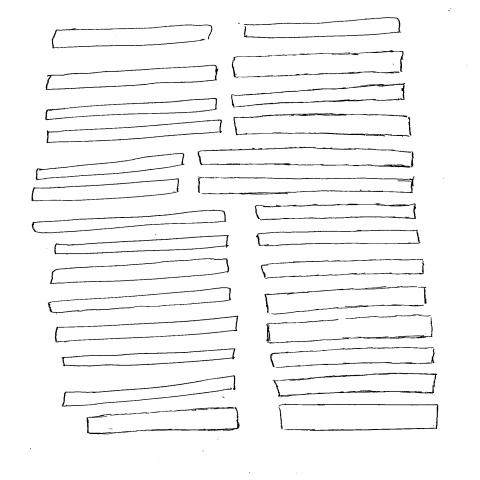Textbox: (61, 376, 237, 408), (55, 316, 239, 343), (266, 316, 435, 345), (48, 288, 232, 314), (265, 287, 428, 316), (32, 210, 227, 234), (50, 259, 230, 285), (233, 52, 405, 79), (231, 83, 407, 109), (198, 148, 415, 169), (46, 65, 219, 91), (87, 407, 241, 436), (278, 404, 439, 431), (47, 120, 223, 144), (233, 114, 412, 137), (52, 25, 214, 50), (36, 154, 185, 181), (272, 374, 437, 398), (46, 98, 218, 121), (198, 178, 414, 196), (31, 179, 180, 203), (54, 236, 229, 256), (270, 348, 435, 369), (244, 18, 401, 40), (63, 349, 236, 368), (261, 260, 425, 279), (257, 230, 422, 247), (255, 204, 417, 221)
